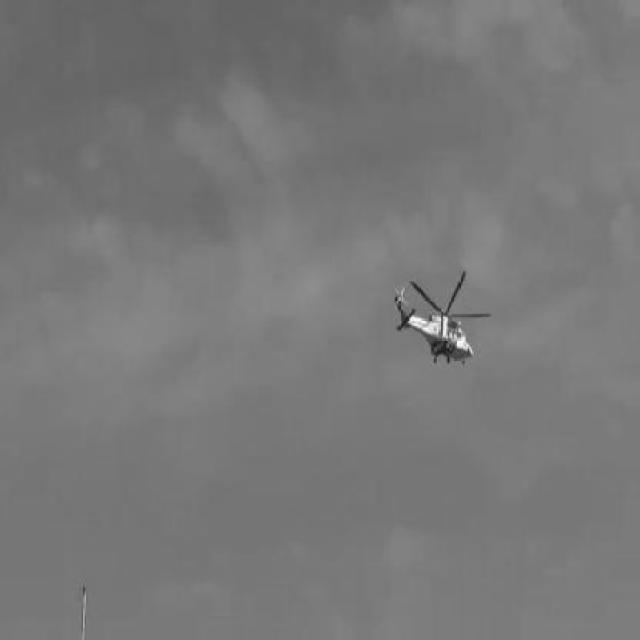helikopter: (388, 269, 498, 374)
